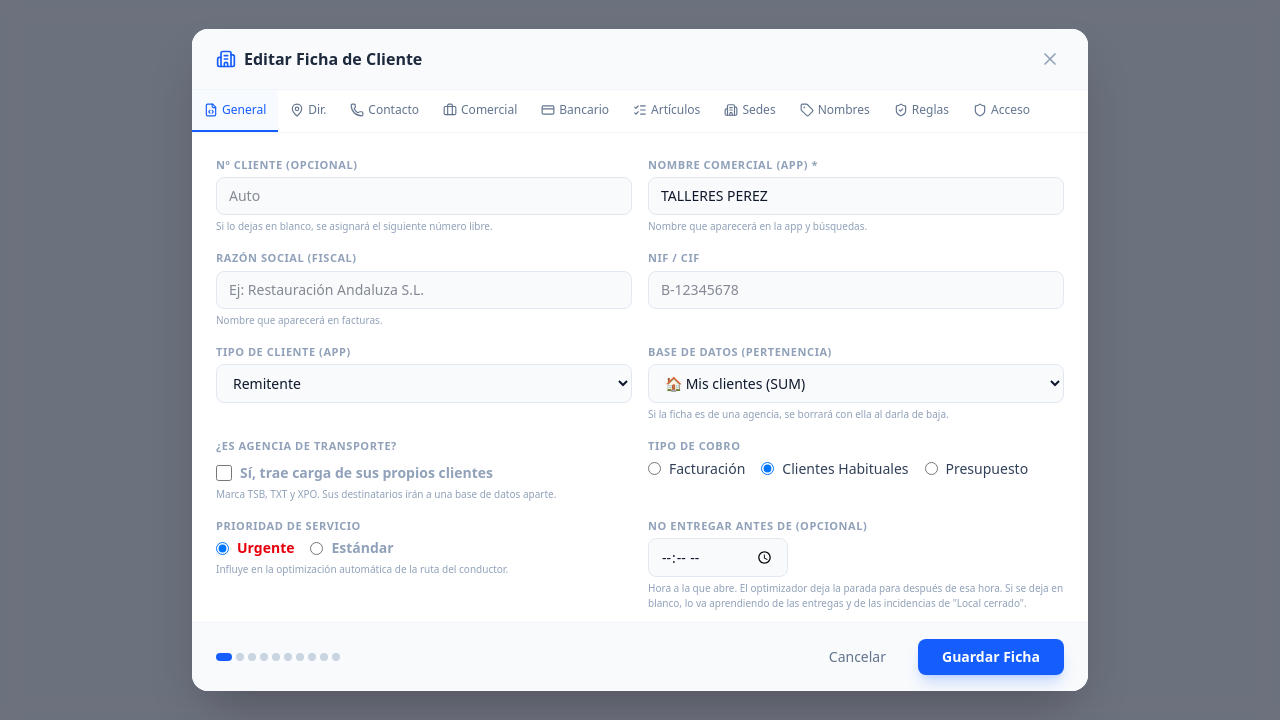
Test: CreateClientModal — otros nombres › sin otros nombres lo dice, y no cuenta como sede
This screenshot has width=1280, height=720.
Click the button "Nombres" at (835, 111), box 788,90 -> 882,132
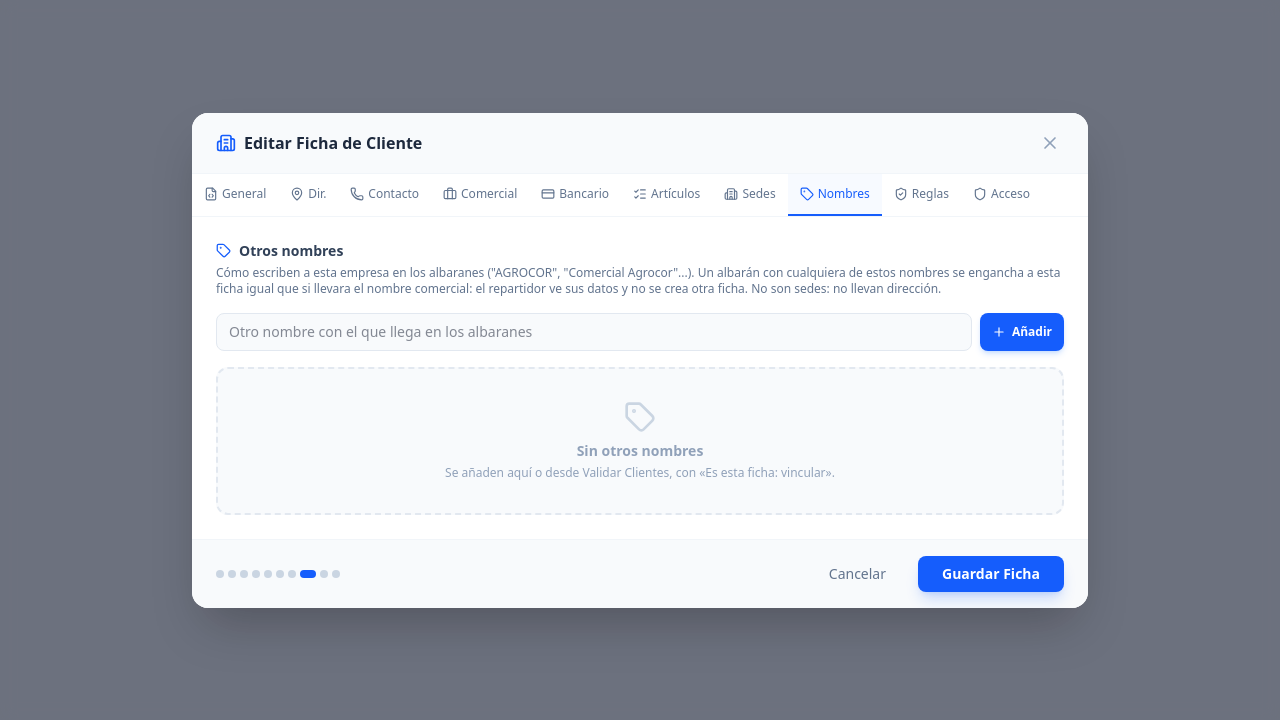
Expected: the text "Sin otros nombres" is shown, 577,440 -> 703,460
